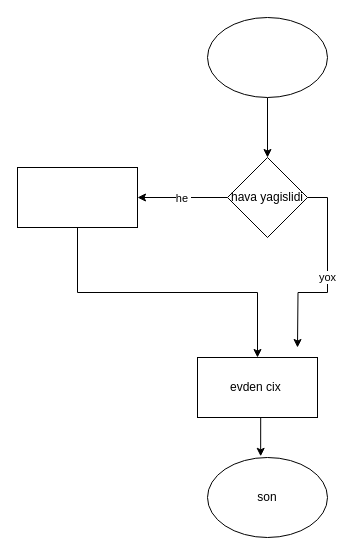
Some shapes in this 353 by 555 pixel diagram are drawn without their labels. The shapes that lost their labels are listed below. From the top down, each one's centre as x and y in pixels, then its label:
At pixel 267 57: "zeng calir dururam".
At pixel 77 197: "cetir gotur".
